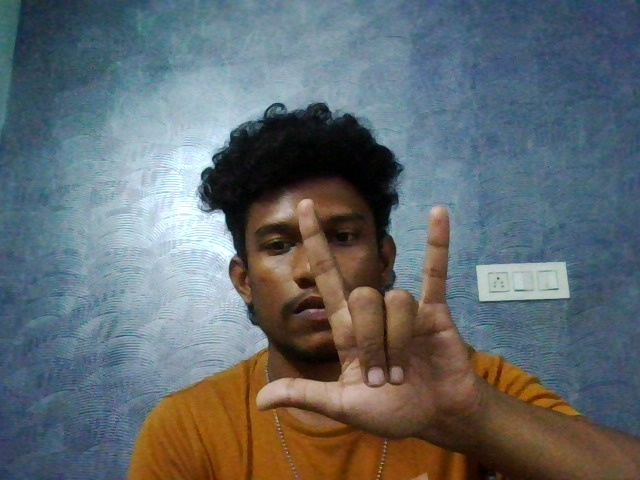i love you: (224, 175, 541, 460)
